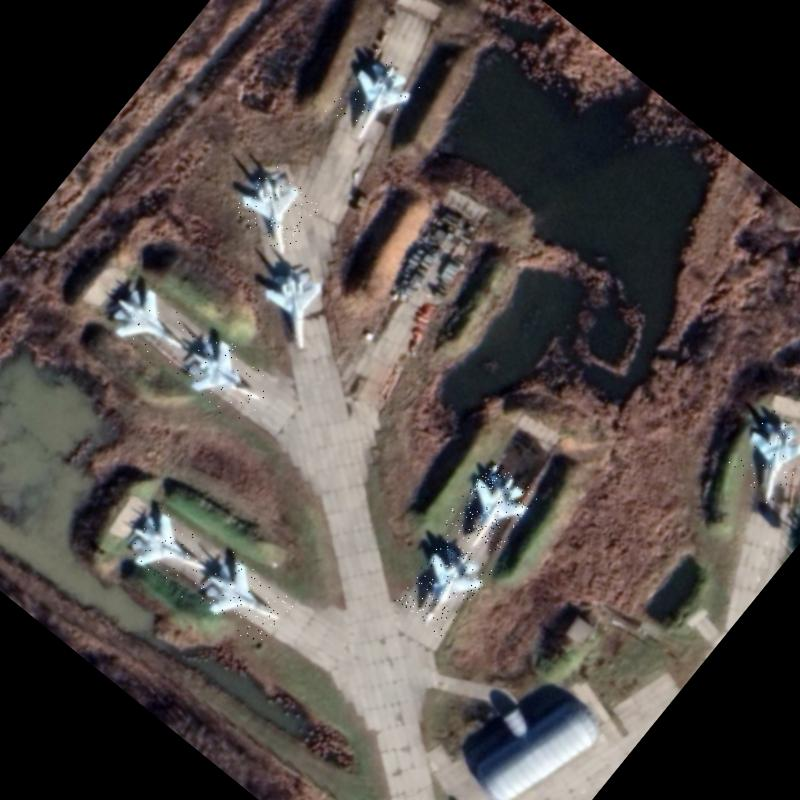A1: (98, 274, 203, 376), (191, 548, 296, 650), (116, 502, 220, 603), (440, 458, 540, 560), (324, 48, 423, 150), (248, 253, 347, 352), (230, 162, 326, 257), (722, 407, 800, 505)
A19: (393, 534, 495, 640), (174, 328, 278, 429)
